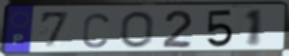1: (242, 8, 265, 49)
2: (162, 9, 195, 49)
5: (206, 9, 234, 49)
7: (38, 10, 73, 51)
C: (80, 12, 111, 50)
O: (119, 10, 155, 49)
